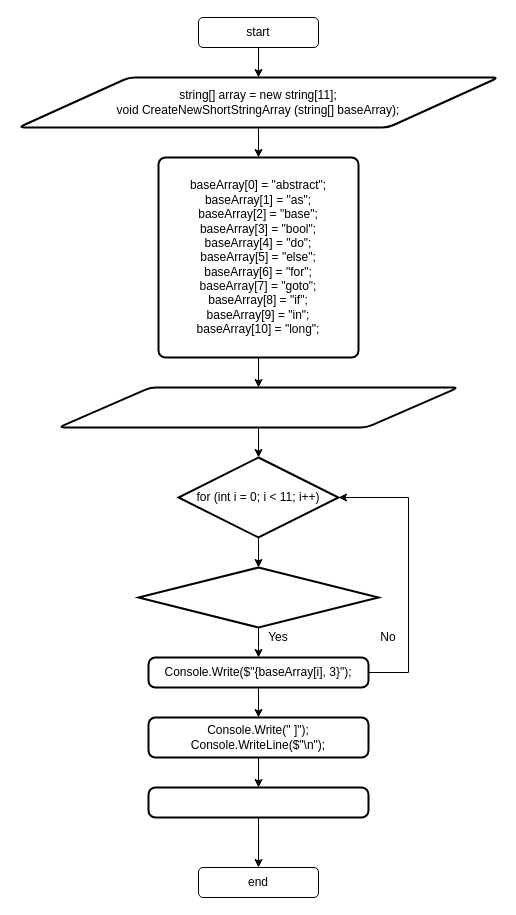
Some shapes in this 516 by 915 pixel diagram are drawn without their labels. Here are the shapes that lost their labels. From the top down, the box of each, then its label:
(57, 386, 459, 428): Console.WriteLine($"\nthis array looks like: [");
(137, 566, 379, 628): if (baseArray[i].Length < 3)
(147, 786, 369, 818): CreateNewShortStringArray(array);
